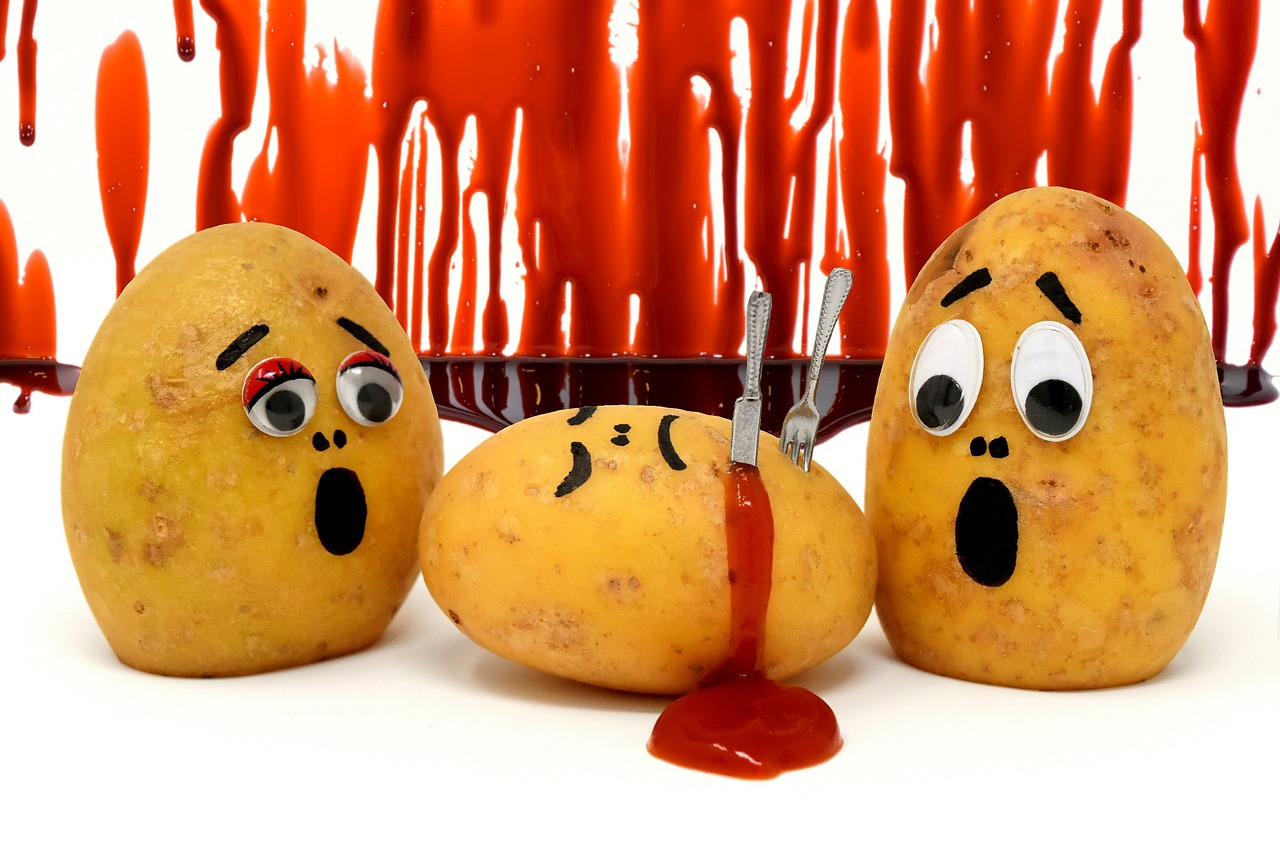knife: (705, 293, 775, 494)
